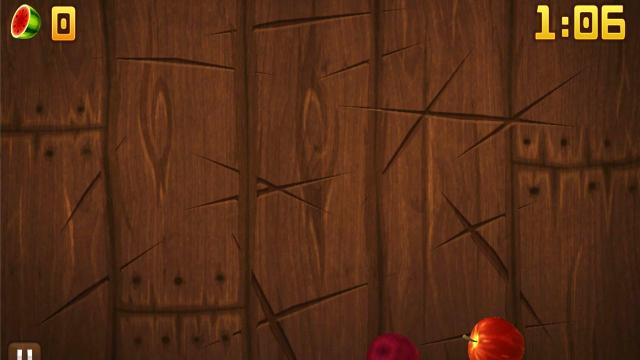fruit: (466, 316, 526, 360), (366, 332, 420, 360)
ignore: (9, 3, 43, 41)
